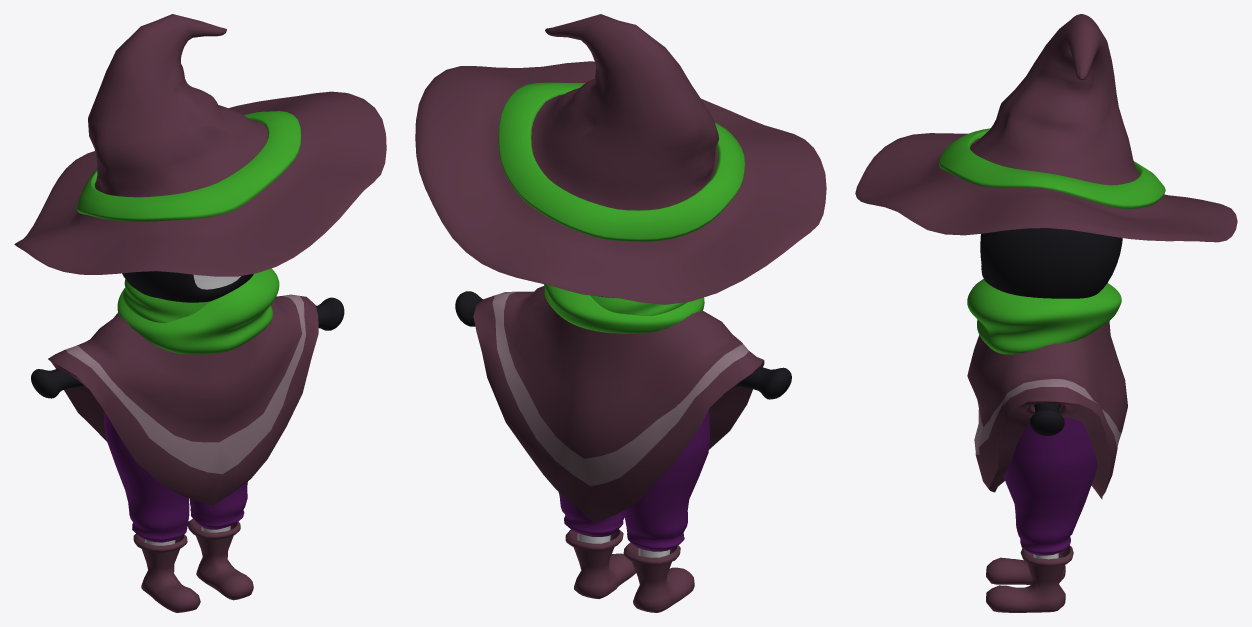
Rendered from Poncho_low_t_pose.fbx.
3 views of the same model, side by side, from view 1: azimuth 30°, elevation 25°; view 2: azimuth 150°, elevation 25°; view 3: azimuth 270°, elevation 25° (orthographic). The views are drawn at different scales.
Visible parts, largest first — view 1: Object003; view 2: Object003; view 3: Object003.
Part boxes in pixels (box(x1,y1,x2,y2)): Object003: box(14, 14, 386, 612); Object003: box(415, 14, 826, 612); Object003: box(855, 14, 1237, 612).
Size of the model in its own units: 99.5 by 156 by 94.78.
